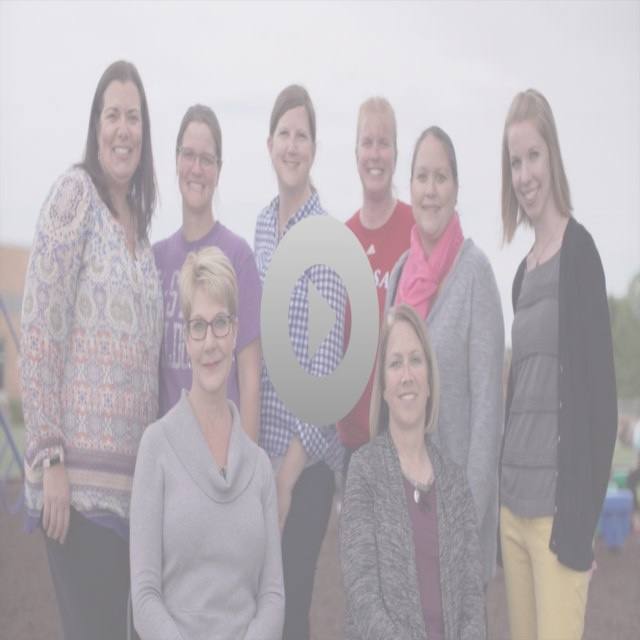pessoa: (16, 56, 167, 640), (489, 76, 624, 640), (122, 240, 296, 640), (384, 125, 506, 591), (251, 80, 350, 640), (338, 300, 492, 640), (150, 100, 264, 446), (336, 94, 418, 506), (619, 399, 640, 528)
